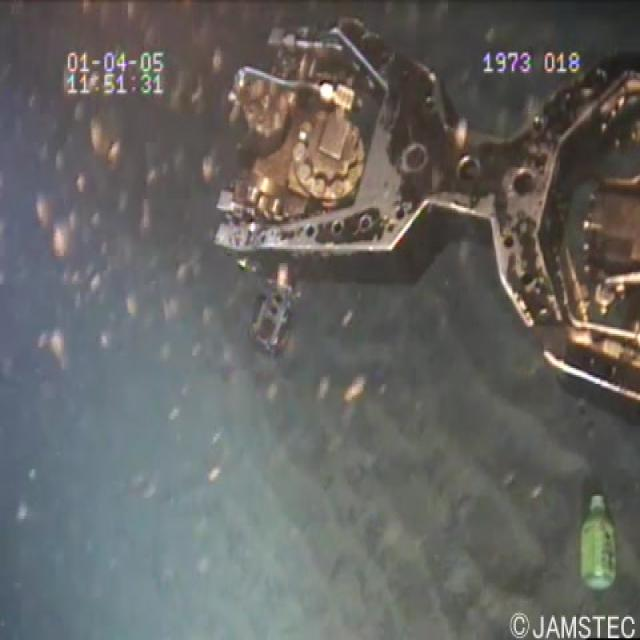plastic: (569, 480, 624, 601)
